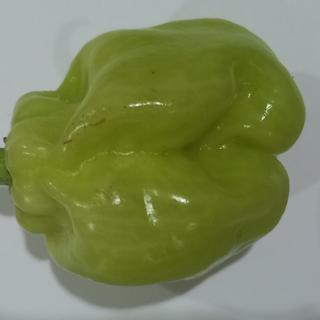Grade-A: (0, 18, 311, 293)
